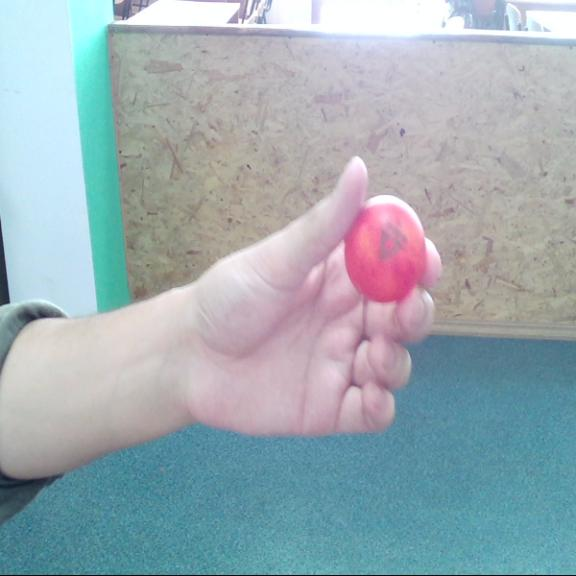ball: (341, 197, 427, 302)
